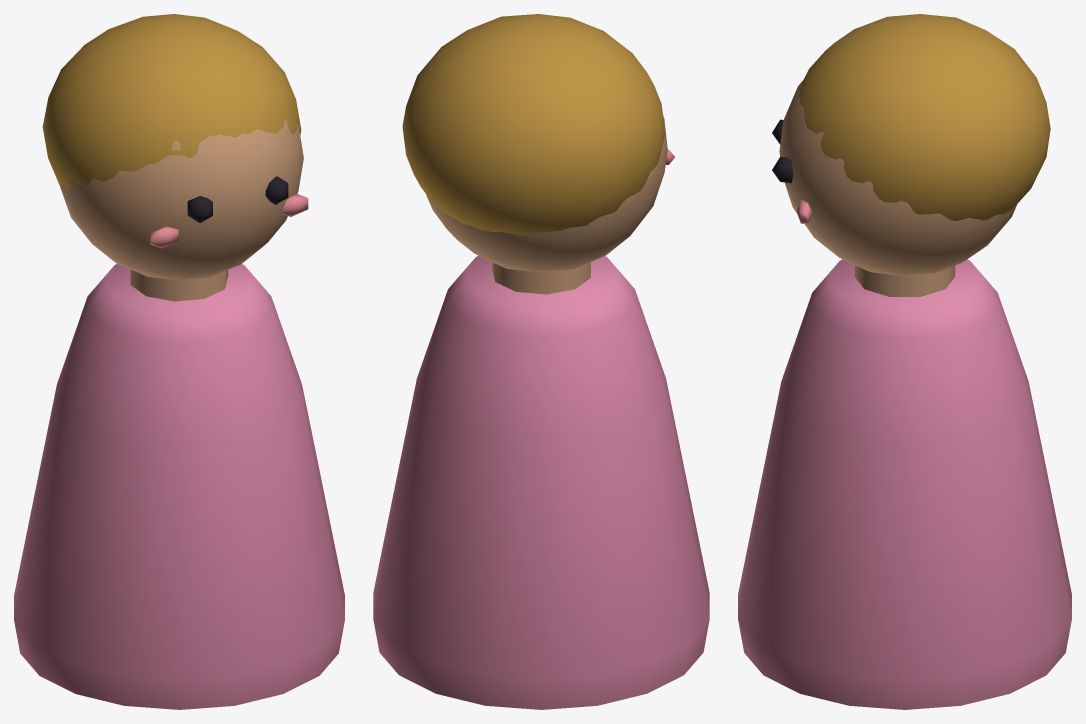
The model's file is person_guest_c.fbx.
3 renders of one model, left to right at view 1: azimuth 30°, elevation 25°; view 2: azimuth 150°, elevation 25°; view 3: azimuth 270°, elevation 25°, orthographic.
Visible parts, largest first — view 1: Body, Head; view 2: Body, Head; view 3: Body, Head.
Boxes of the visible parts, x1,y1,x2,y2 form: Body: (14, 264, 344, 709); Head: (42, 14, 308, 279); Body: (373, 256, 709, 709); Head: (402, 14, 675, 272); Body: (738, 259, 1071, 709); Head: (772, 14, 1050, 275).
Size of the model in its own units: 0.27 by 0.5394 by 0.2659.
